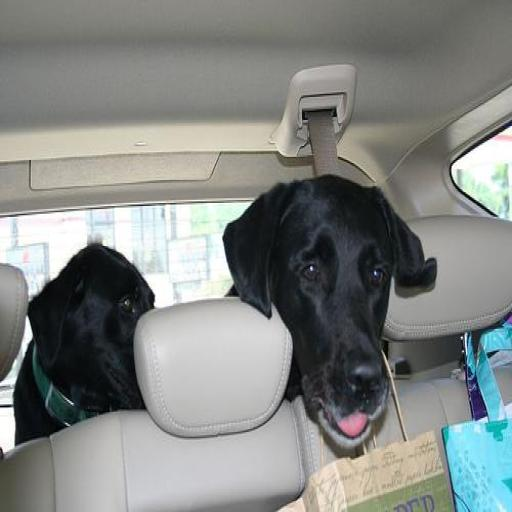dog_face: (237, 170, 422, 443)
